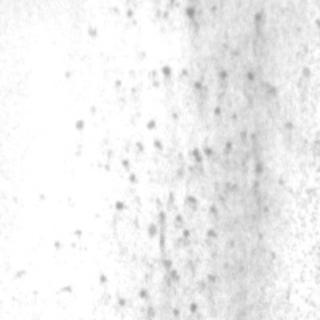pitted_surface: (92, 0, 278, 302)
